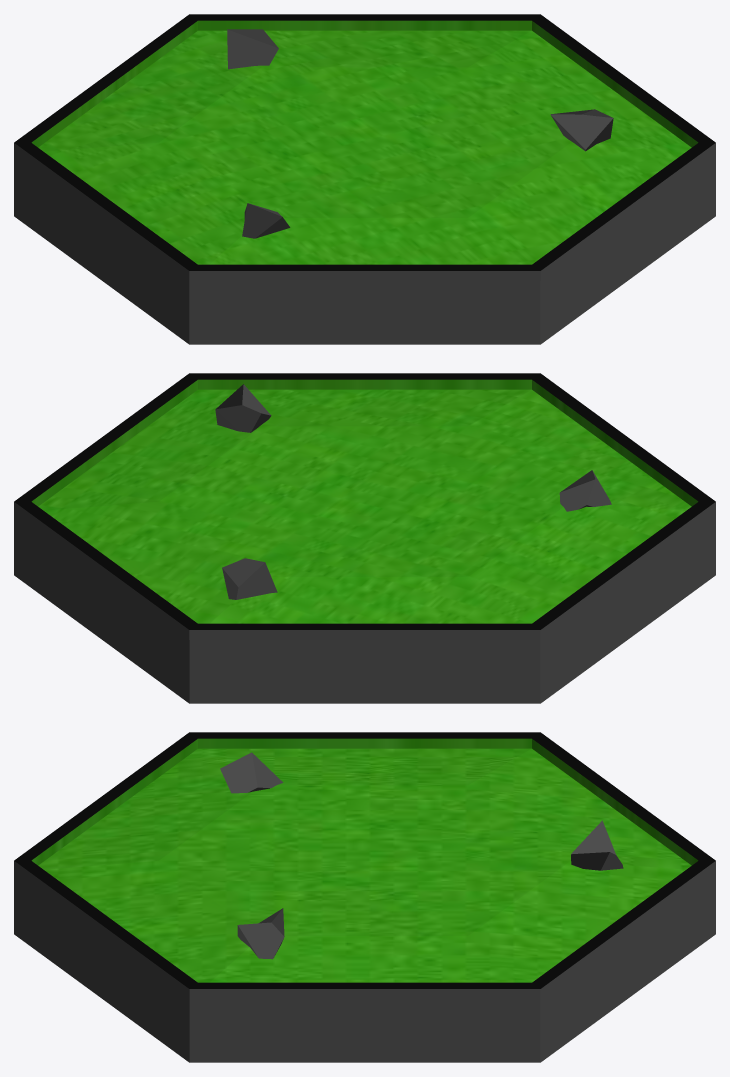
The model's file is RockHex.fbx.
The picture shows the model from 3 angles, top to bottom: view 1: azimuth 30°, elevation 25°; view 2: azimuth 150°, elevation 25°; view 3: azimuth 270°, elevation 25°; orthographic projection.
Visible parts, largest first — view 1: Cylinder, Cube.001, Cube, Cube.002; view 2: Cylinder, Cube, Cube.001, Cube.002; view 3: Cylinder, Cube.002, Cube, Cube.001.
Boxes of the visible parts, x1,y1,x2,y2 form: Cylinder: (14, 14, 715, 344); Cube.001: (550, 109, 613, 151); Cube: (227, 29, 278, 69); Cube.002: (242, 203, 290, 238); Cylinder: (14, 373, 715, 703); Cube: (222, 558, 277, 599); Cube.001: (215, 384, 271, 432); Cube.002: (559, 470, 611, 511); Cylinder: (14, 732, 715, 1062); Cube.002: (220, 752, 283, 793); Cube: (571, 820, 623, 870); Cube.001: (237, 908, 284, 959).
Bounding box in the file's own units: 550 × 104 × 635.
6 materials, 1 textured.
